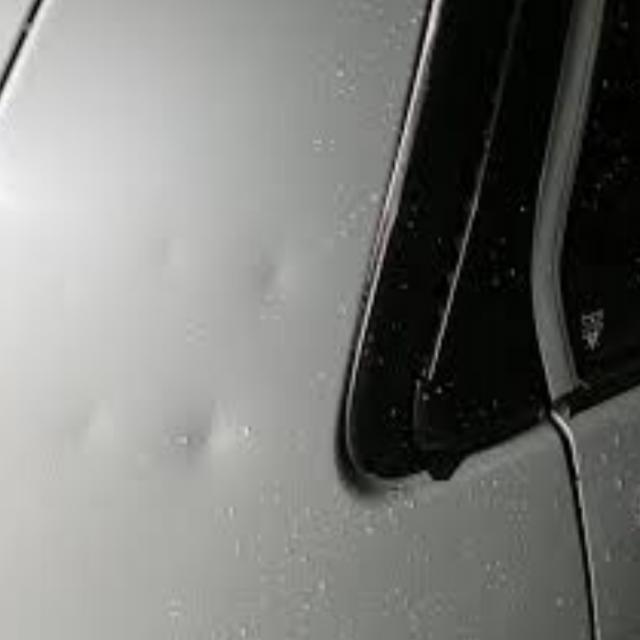dents: (176, 403, 255, 496), (234, 224, 299, 334), (122, 219, 198, 312), (46, 392, 122, 478)
